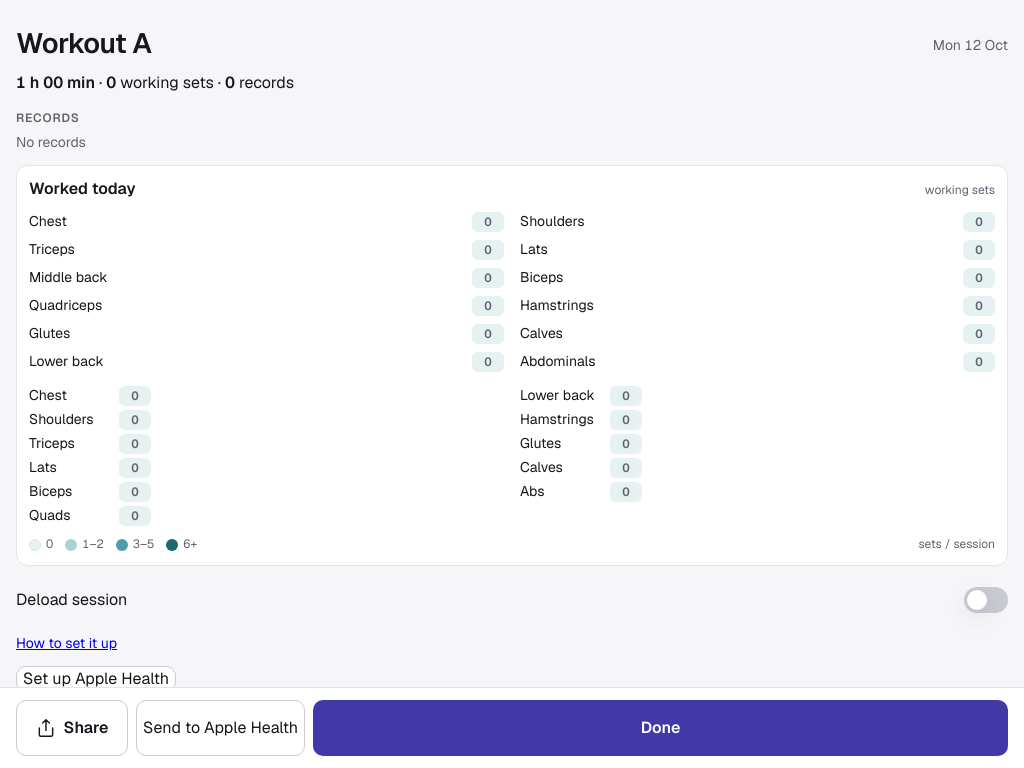
it: O2 the first Send to Apple Health opens the guide and still opens the Shortcut
Click the button "Send to Apple Health" at {"x": 221, "y": 728}, box [136, 700, 305, 756]
(page scrolled)
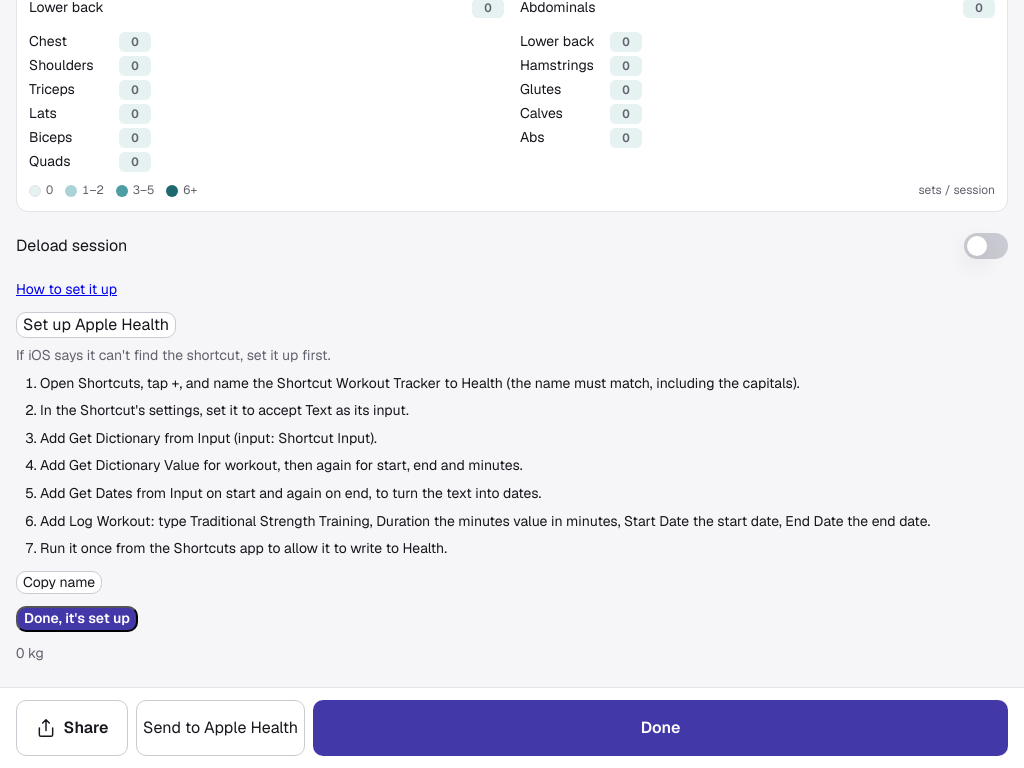
Now the list named "Apple Health setup steps" is shown, box [16, 374, 930, 559]
